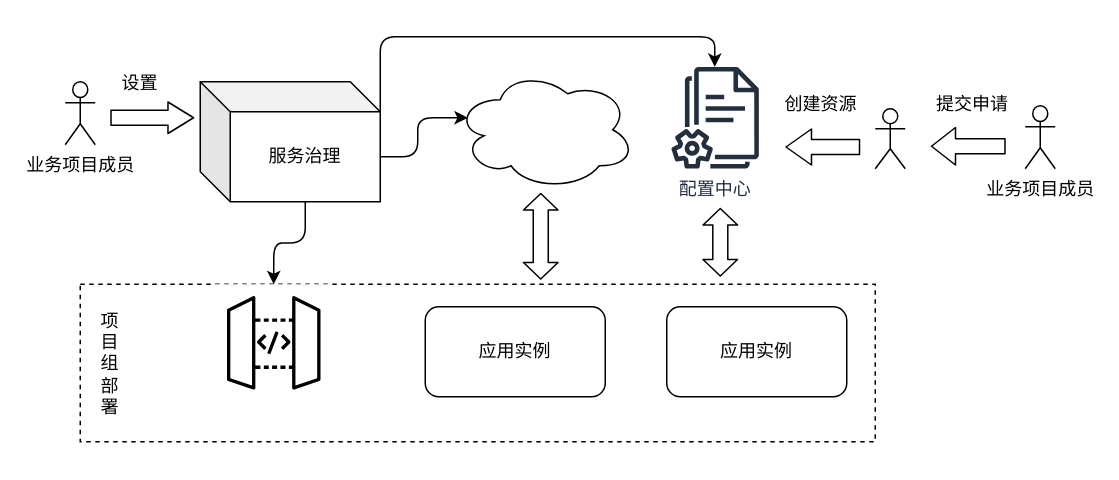
This 1119x480 diagram has some shape labels left out. The shapes that lost their labels are listed below. From the top down, each one's centre as x and y in pixels, then its label:
At pixel 544 129: "注册中心".
At pixel 889 138: "运营服务项目成员".
At pixel 273 342: "服务网关".
